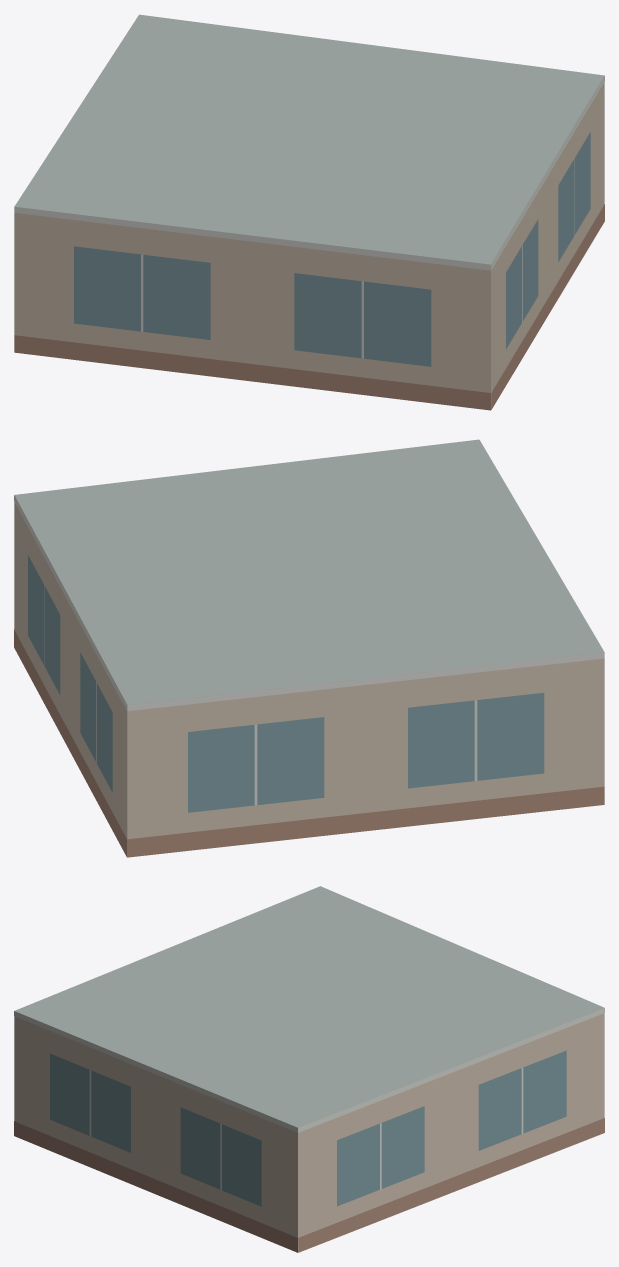
The model's file is survey-upis-32723910.glb.
The picture shows the model from 3 angles, top to bottom: view 1: azimuth 30°, elevation 25°; view 2: azimuth 150°, elevation 25°; view 3: azimuth 270°, elevation 25°; orthographic projection. The views are drawn at different scales.
Visible parts, largest first — view 1: survey-upis-32723910.tmp; view 2: survey-upis-32723910.tmp; view 3: survey-upis-32723910.tmp.
Part boxes in pixels (<box>): survey-upis-32723910.tmp: <box>14,14,604,410</box>; survey-upis-32723910.tmp: <box>14,439,604,857</box>; survey-upis-32723910.tmp: <box>14,886,604,1252</box>.
Size of the model in its own units: 12.65 by 3.05 by 13.07.
